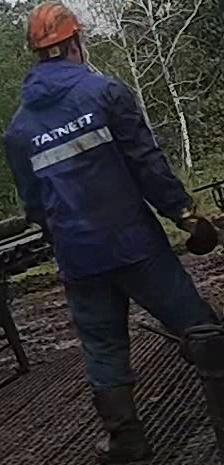gloves: (175, 207, 218, 255)
helmet: (24, 0, 86, 51)
vest: (3, 59, 171, 279)
